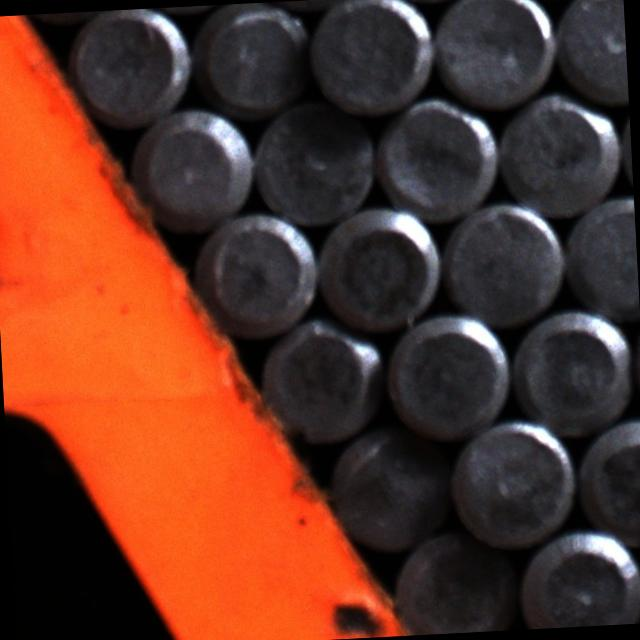tool: (246, 90, 382, 230), (444, 414, 580, 552), (379, 308, 514, 444), (321, 420, 455, 556), (252, 314, 386, 449), (311, 200, 443, 336), (437, 196, 570, 330), (372, 90, 502, 226), (127, 102, 258, 236), (494, 87, 624, 222), (509, 306, 638, 440), (196, 208, 322, 342), (64, 7, 194, 132), (305, 0, 437, 119), (388, 522, 522, 637), (192, 0, 316, 121), (427, 0, 559, 112), (513, 525, 640, 630), (557, 192, 640, 325), (570, 416, 640, 547), (549, 0, 629, 109)
